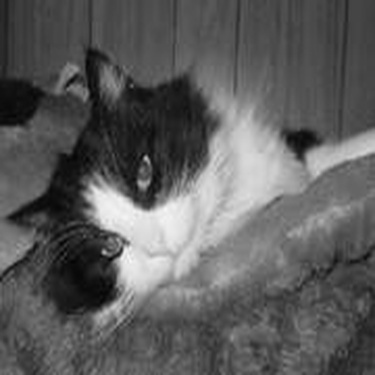cat: (9, 40, 374, 315)
